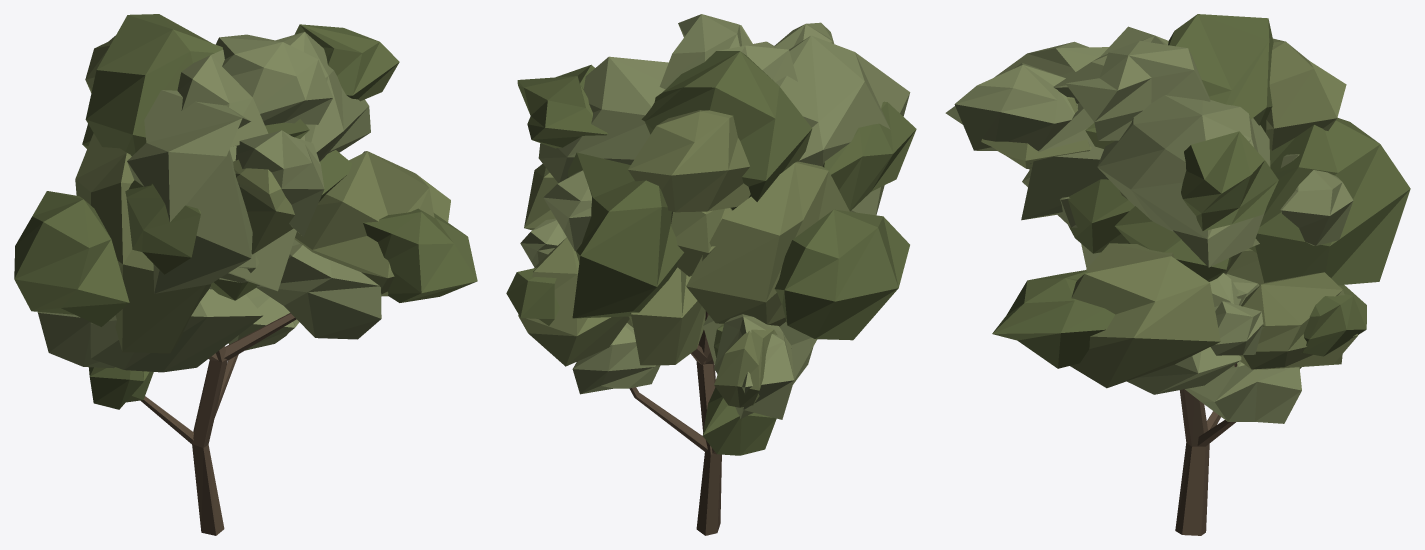
The picture shows the model from 3 angles, left to right: view 1: azimuth 30°, elevation 25°; view 2: azimuth 150°, elevation 25°; view 3: azimuth 270°, elevation 25°; orthographic projection. The views are drawn at different scales.
Visible parts, largest first — view 1: compact; view 2: compact; view 3: compact.
Boxes of the visible parts, x1,y1,x2,y2 form: compact: [14, 14, 477, 535]; compact: [506, 14, 916, 535]; compact: [945, 14, 1410, 535].
Bounding box in the file's own units: 17.44 × 20.77 × 17.41.
